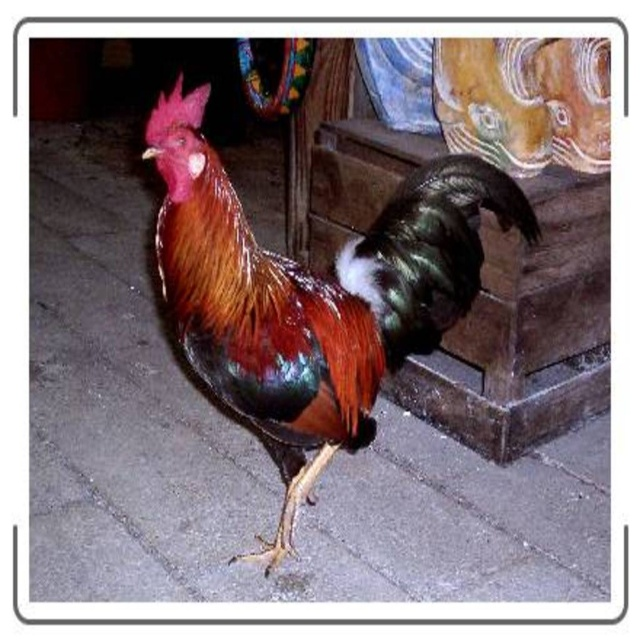Chicken: (143, 73, 544, 580)
